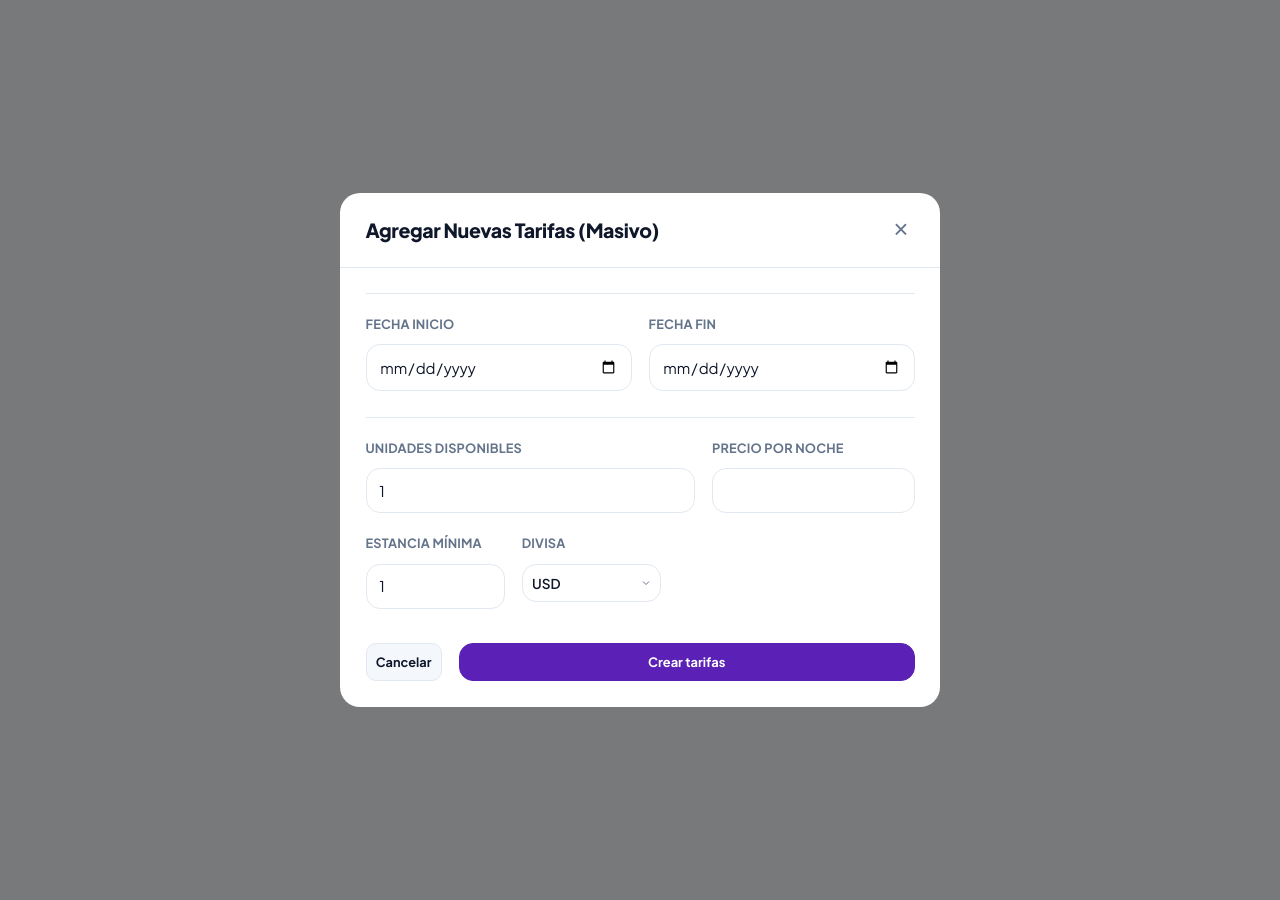
Test: HotelRoomBulkRateModal › handles conflict error
Step 1. Type "2026-06-01" into the date field below "Fecha Inicio" → {"x": 498, "y": 368}, box [366, 344, 632, 391]
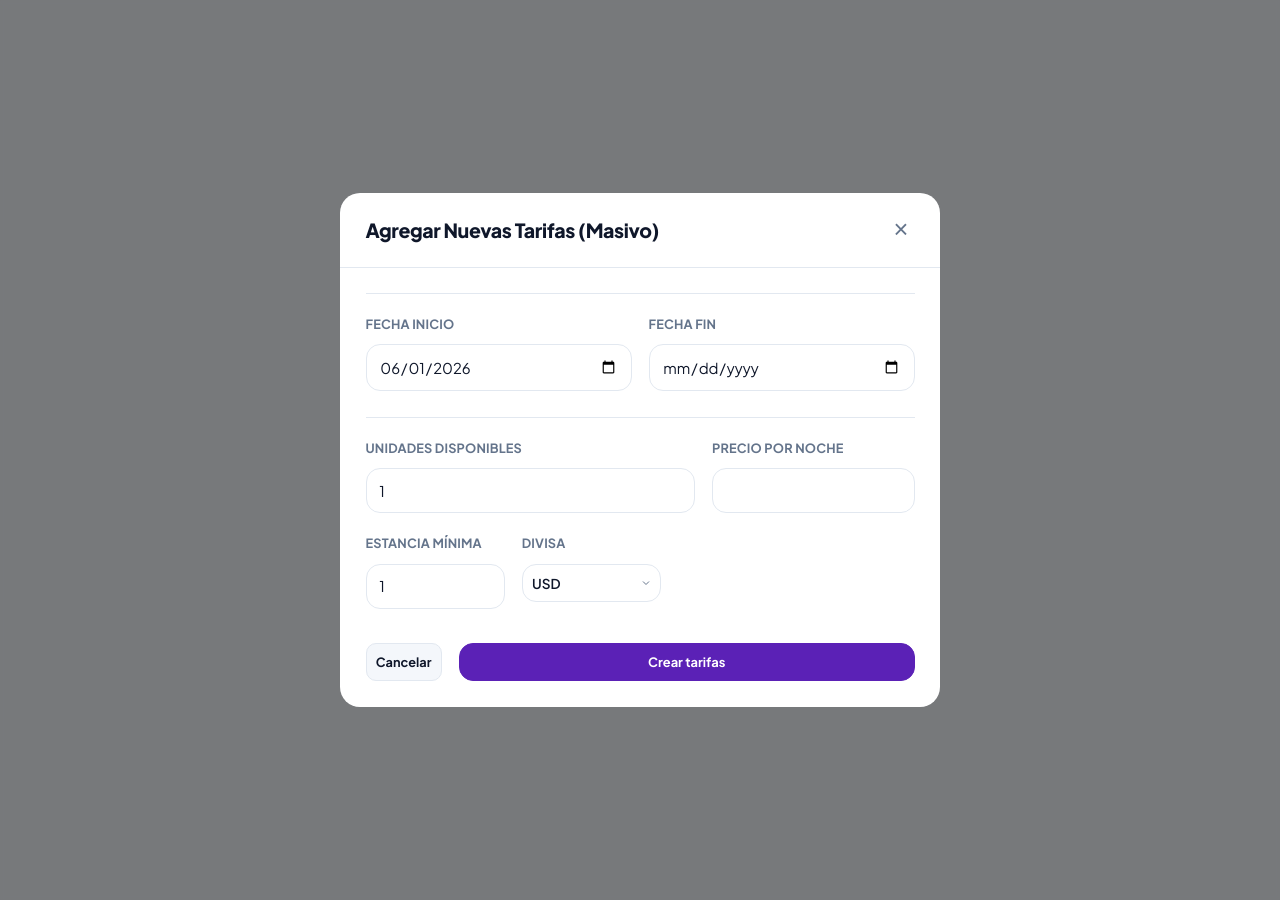
Step 2. Type "2026-06-10" into the date field below "Fecha Fin" → {"x": 782, "y": 368}, box [648, 344, 914, 391]
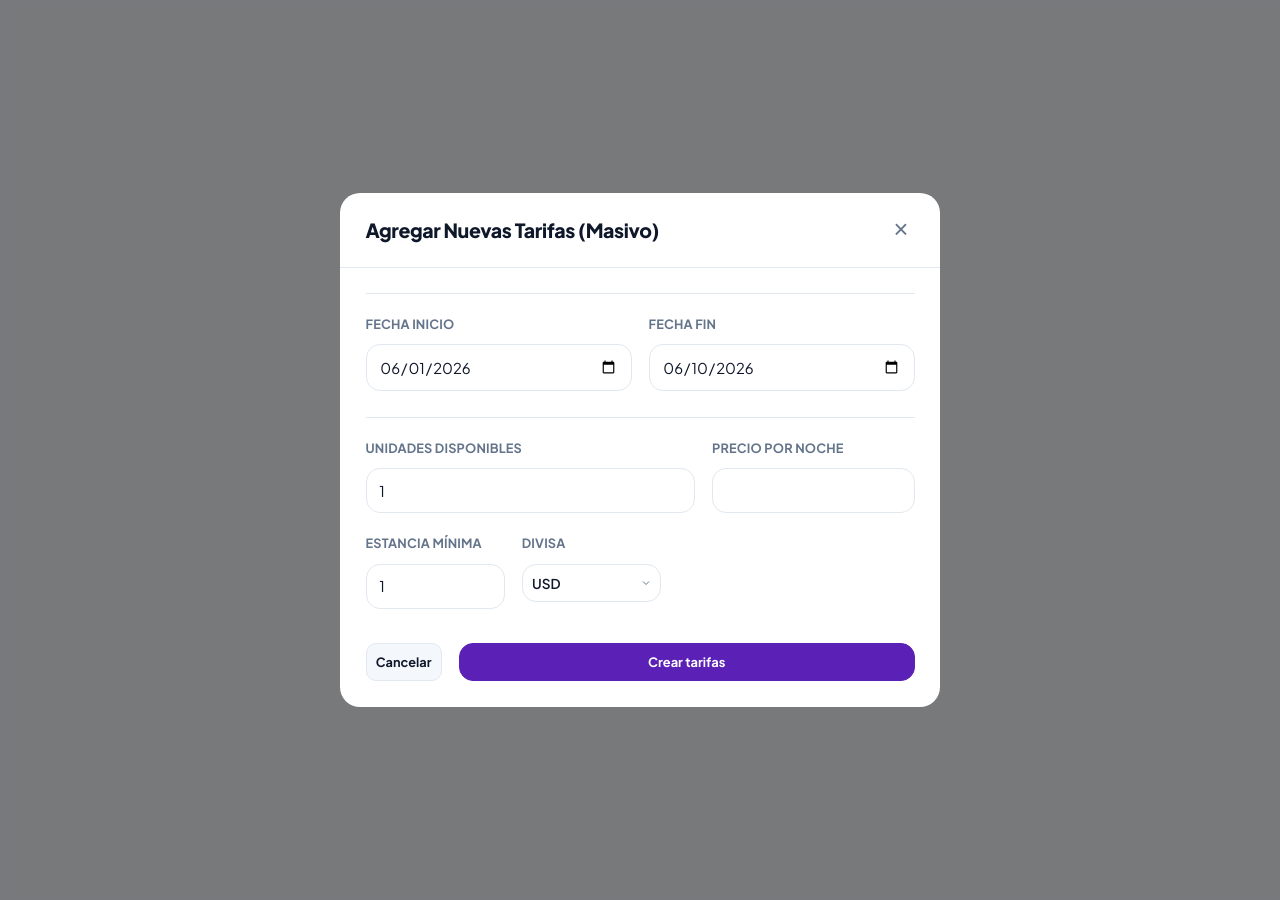
Step 3. Type "200" into the number field below "Precio por noche" → {"x": 813, "y": 491}, box [712, 468, 914, 513]
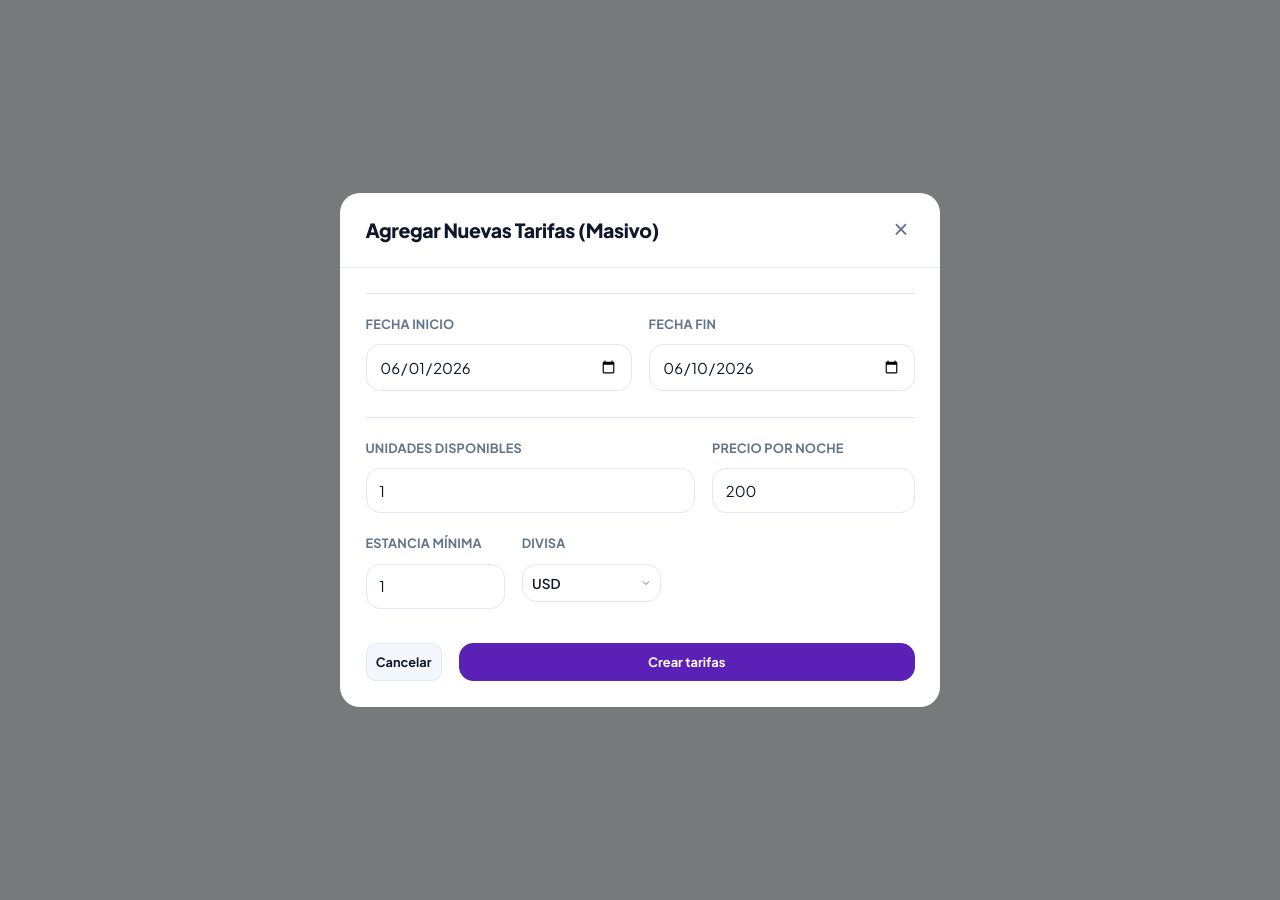
Step 4. Click the button "Crear tarifas" → {"x": 687, "y": 662}, box [459, 643, 914, 681]
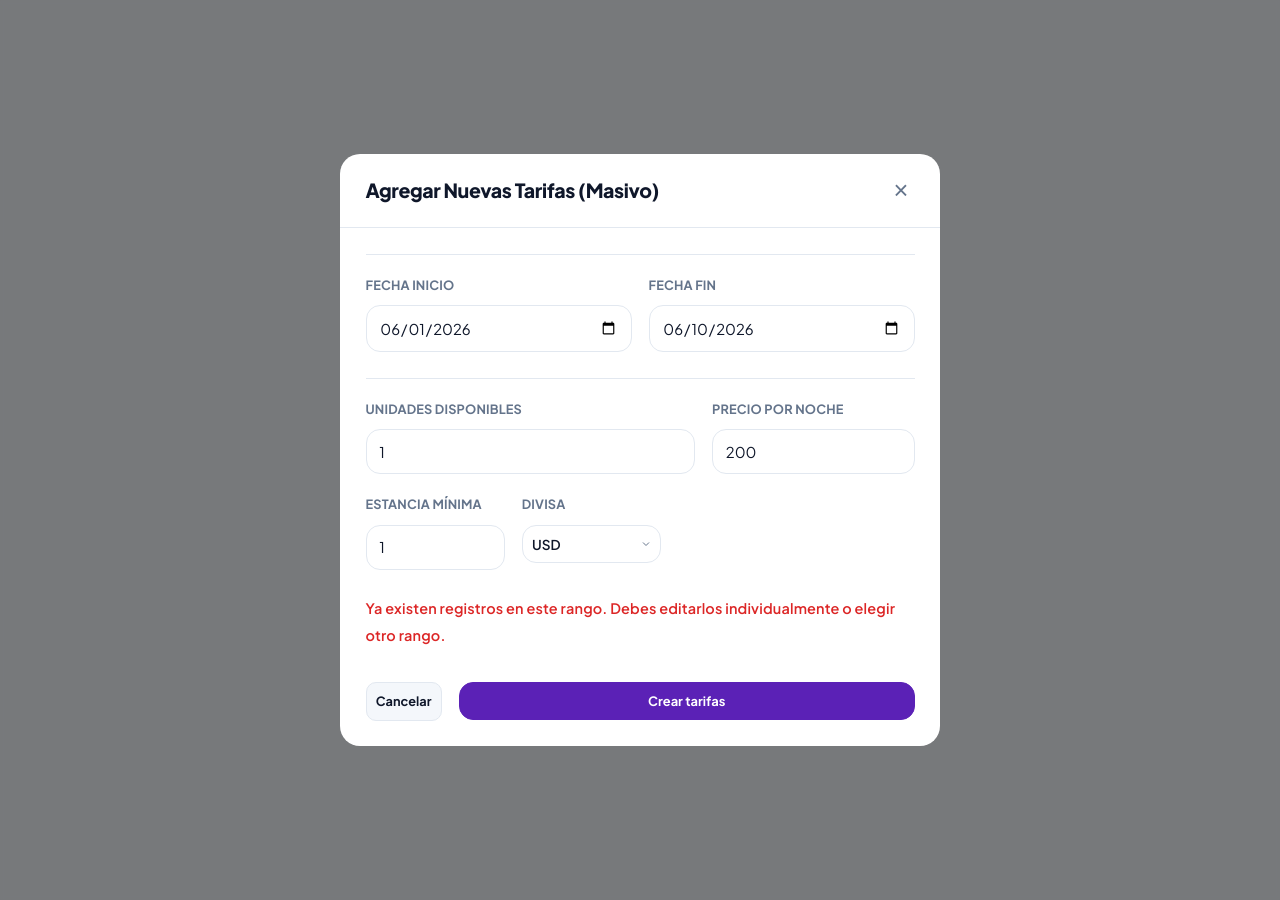
Check: the text "Ya existen registros en este rango" is shown, box [366, 599, 895, 644]
